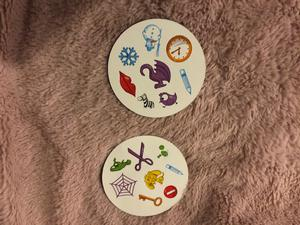ancre: (166, 35, 191, 64)
bonhomme_neige: (141, 22, 163, 58)
bouche: (117, 70, 138, 98)
ciseau: (125, 142, 156, 172)
cle: (133, 192, 163, 209)
crayon: (179, 67, 192, 95), (161, 160, 186, 173)
dinosore: (108, 153, 135, 174)
dragon: (138, 59, 173, 90)
flocon: (116, 45, 141, 68)
horloge: (166, 35, 191, 64)
oiseau: (156, 91, 179, 108)
sens_interdit: (163, 185, 178, 198)
tache: (153, 143, 171, 162)
toile: (109, 174, 138, 198)
voiture: (143, 168, 165, 191)
zebre: (136, 92, 156, 112)
